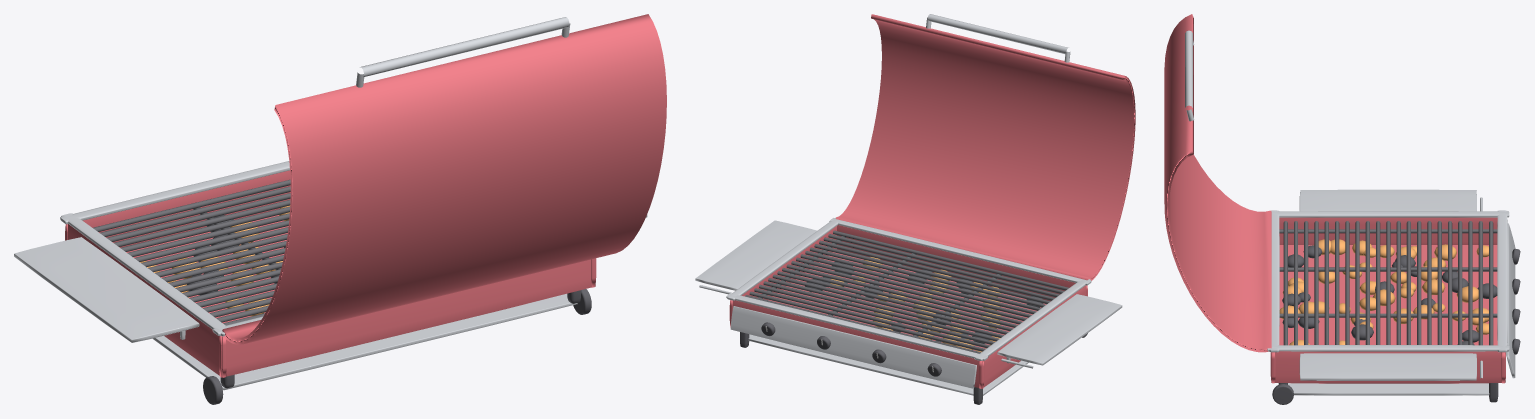
The model's file is PrimeCutGrill.glb.
3 renders of one model, left to right at view 1: azimuth 30°, elevation 25°; view 2: azimuth 150°, elevation 25°; view 3: azimuth 270°, elevation 25°, orthographic. The views are drawn at different scales.
Parts seen in each view (by area): view 1: Enamel, Steel, Grate, Black, Coals; view 2: Enamel, Steel, Grate, Black, Coals; view 3: Enamel, Steel, Grate, Coals, Black.
Boxes of the visible parts, left/top/right/bottom form: Enamel: left=65, top=14, right=666, bottom=377; Steel: left=14, top=17, right=647, bottom=390; Grate: left=93, top=179, right=290, bottom=325; Black: left=187, top=215, right=591, bottom=404; Coals: left=140, top=205, right=290, bottom=316; Enamel: left=729, top=14, right=1135, bottom=388; Steel: left=695, top=14, right=1122, bottom=395; Grate: left=745, top=230, right=1068, bottom=353; Black: left=740, top=261, right=1087, bottom=404; Coals: left=830, top=257, right=1001, bottom=352; Enamel: left=1164, top=14, right=1505, bottom=383; Steel: left=1185, top=30, right=1515, bottom=395; Grate: left=1279, top=221, right=1497, bottom=345; Coals: left=1279, top=239, right=1488, bottom=345; Black: left=1272, top=245, right=1520, bottom=404.
Size of the model in its own units: 35.18 by 23.52 by 28.09.
